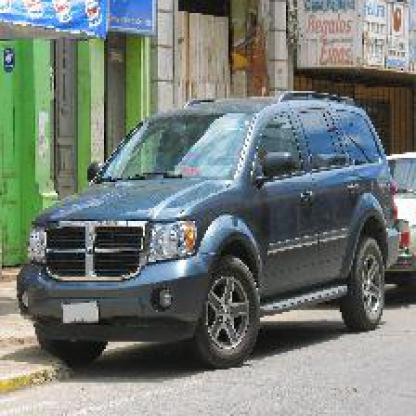not_emergency: (20, 91, 403, 358)
